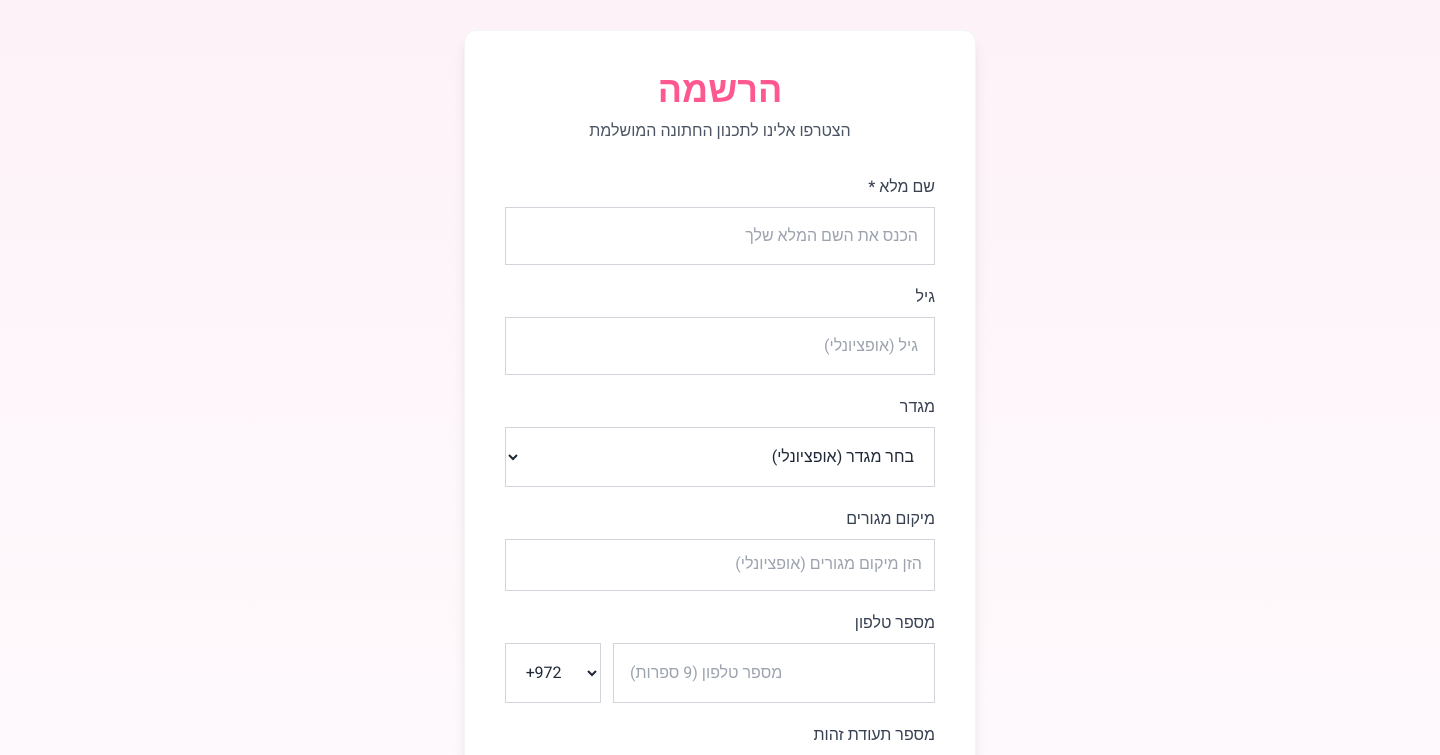
Test: Register Page › shows loading state during registration
This screenshot has width=1440, height=755.
// מלא שדות חובה
Type "Test User" into the field with placeholder "הכנס את השם המלא שלך".
click(720, 236); type("Test User")  # box [505,207,935,265]
(page scrolled)
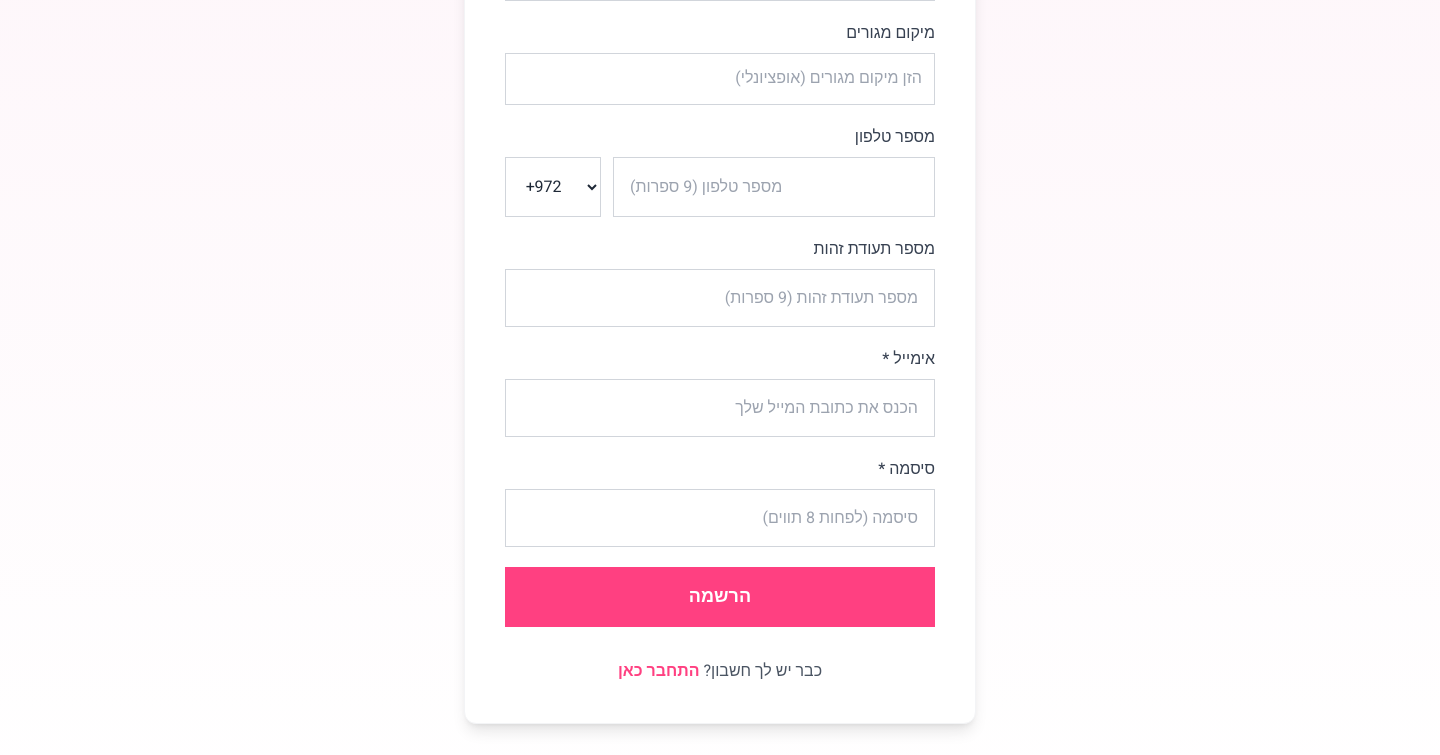
Type "test@example.com" into the field with placeholder "הכנס את כתובת המייל שלך".
click(720, 408); type("test@example.com")  # box [505,379,935,437]
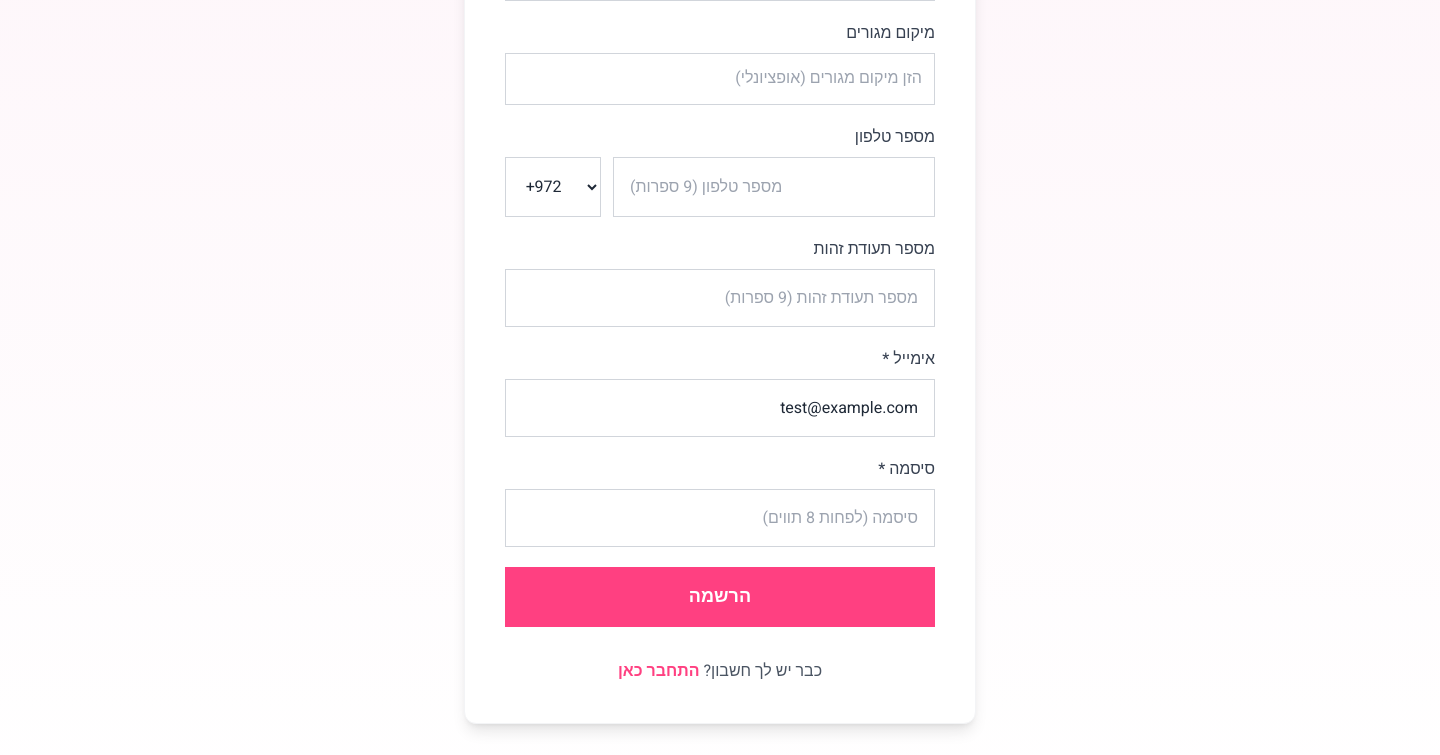
Type "password123" into the password field with placeholder "סיסמה (לפחות 8 תווים)".
click(720, 518); type("password123")  # box [505,489,935,547]
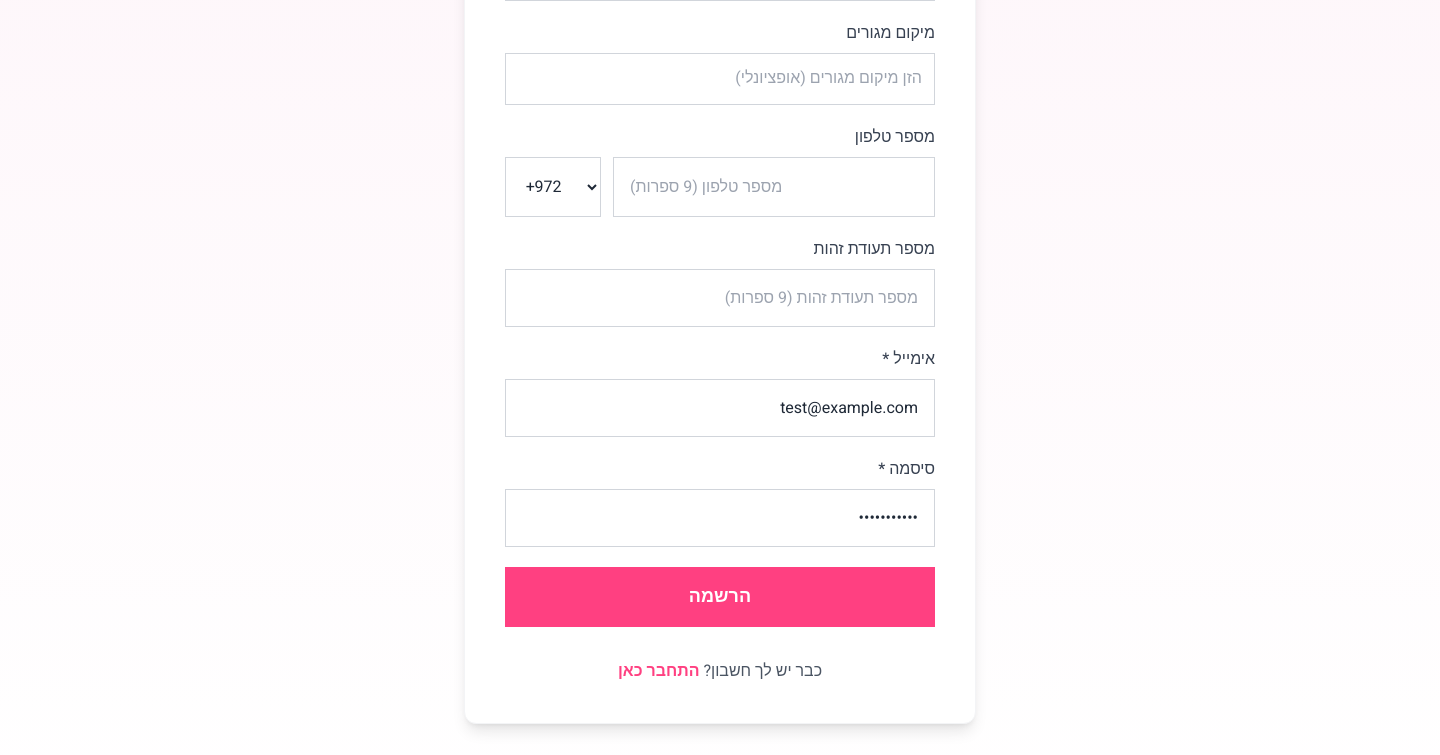
Click the button "הרשמה".
click(720, 597)  # box [505,567,935,627]
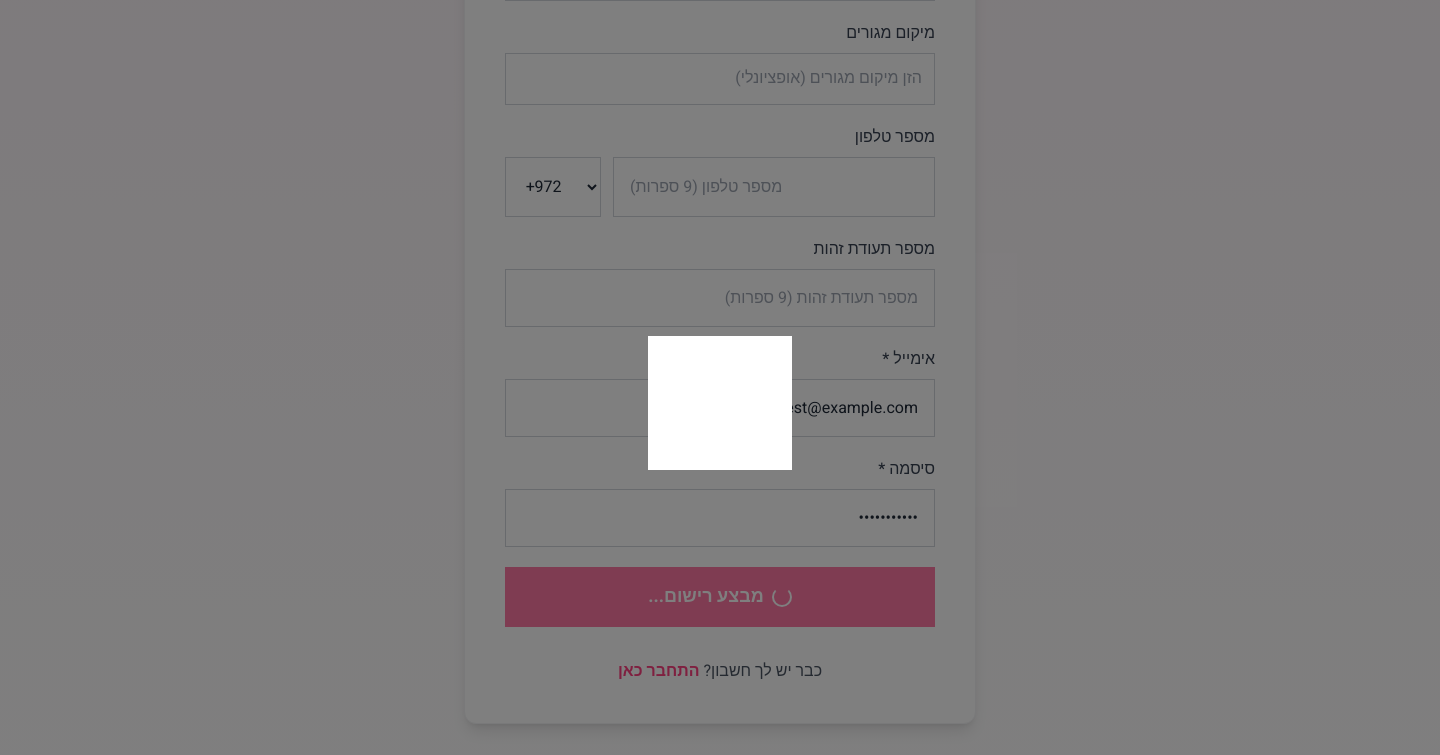
Expected: the text "מבצע רישום..." is shown, [648,583,792,610]
Expected: the button named "הרשמה" is disabled, [505,567,935,627]
